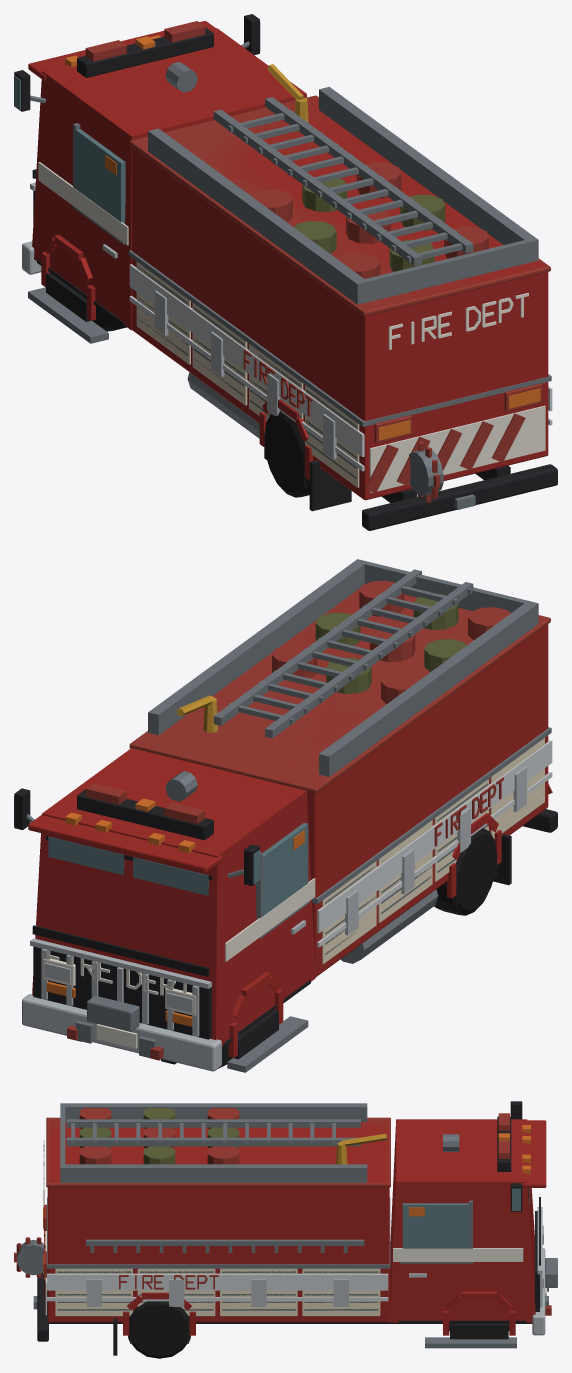
Rendered from fire_truck.glb.
3 views of the same model, one above another, from view 1: azimuth 30°, elevation 25°; view 2: azimuth 150°, elevation 25°; view 3: azimuth 270°, elevation 25° (orthographic). The views are drawn at different scales.
Parts seen in each view (by area): view 1: fire_truck; view 2: fire_truck; view 3: fire_truck.
Part boxes in pixels (box(x1,y1,x2,y2)): fire_truck: box(14, 14, 557, 530); fire_truck: box(14, 559, 557, 1072); fire_truck: box(14, 1101, 557, 1358).
Size of what is drawn, in the model's own units: 3.18 by 3.58 by 8.51.
Materials: 3 (3 with a texture image).
